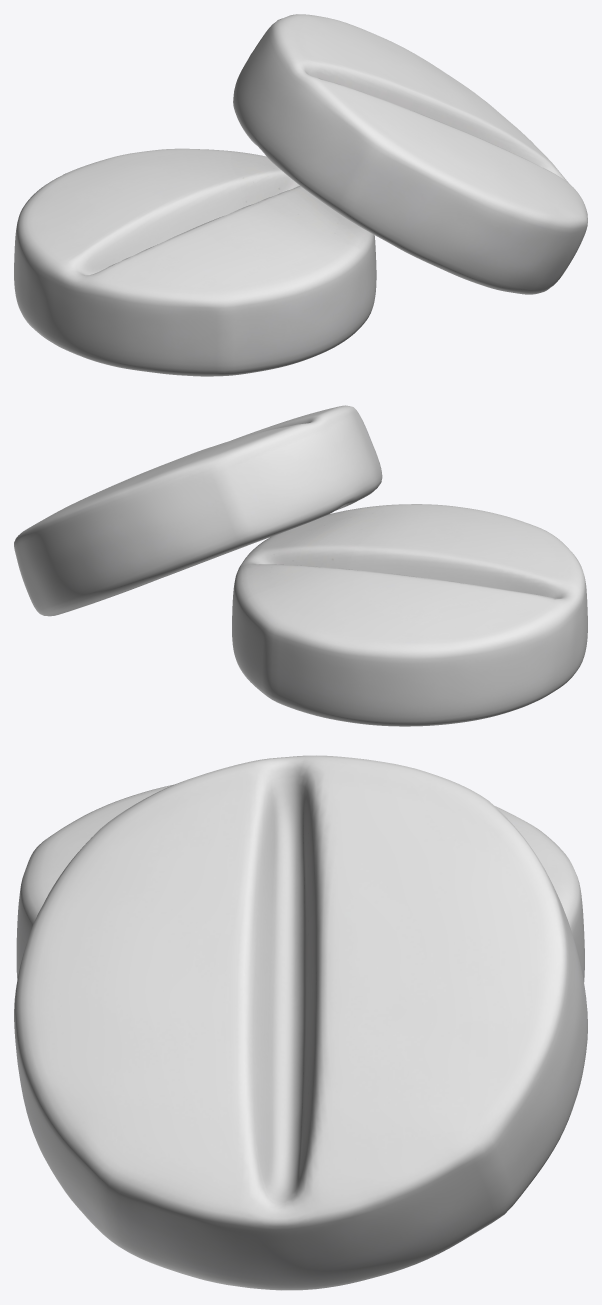
Rendered from tripo_convert_2710e58c-0b75-4a9f-ac2e-b3ab5dd5faec.fbx.
3 views of the same model, one above another, from view 1: azimuth 30°, elevation 25°; view 2: azimuth 150°, elevation 25°; view 3: azimuth 270°, elevation 25° (orthographic). The views are drawn at different scales.
Parts seen in each view (by area): view 1: tripo_node_2710e58c; view 2: tripo_node_2710e58c; view 3: tripo_node_2710e58c.
Part boxes in pixels (x1=…): tripo_node_2710e58c: x1=14, y1=14, x2=587, y2=376; tripo_node_2710e58c: x1=14, y1=405, x2=587, y2=726; tripo_node_2710e58c: x1=14, y1=755, x2=587, y2=1290.
Bounding box in the file's own units: 97.89 × 60.5 × 42.69.
Materials: 1 (1 with a texture image).
